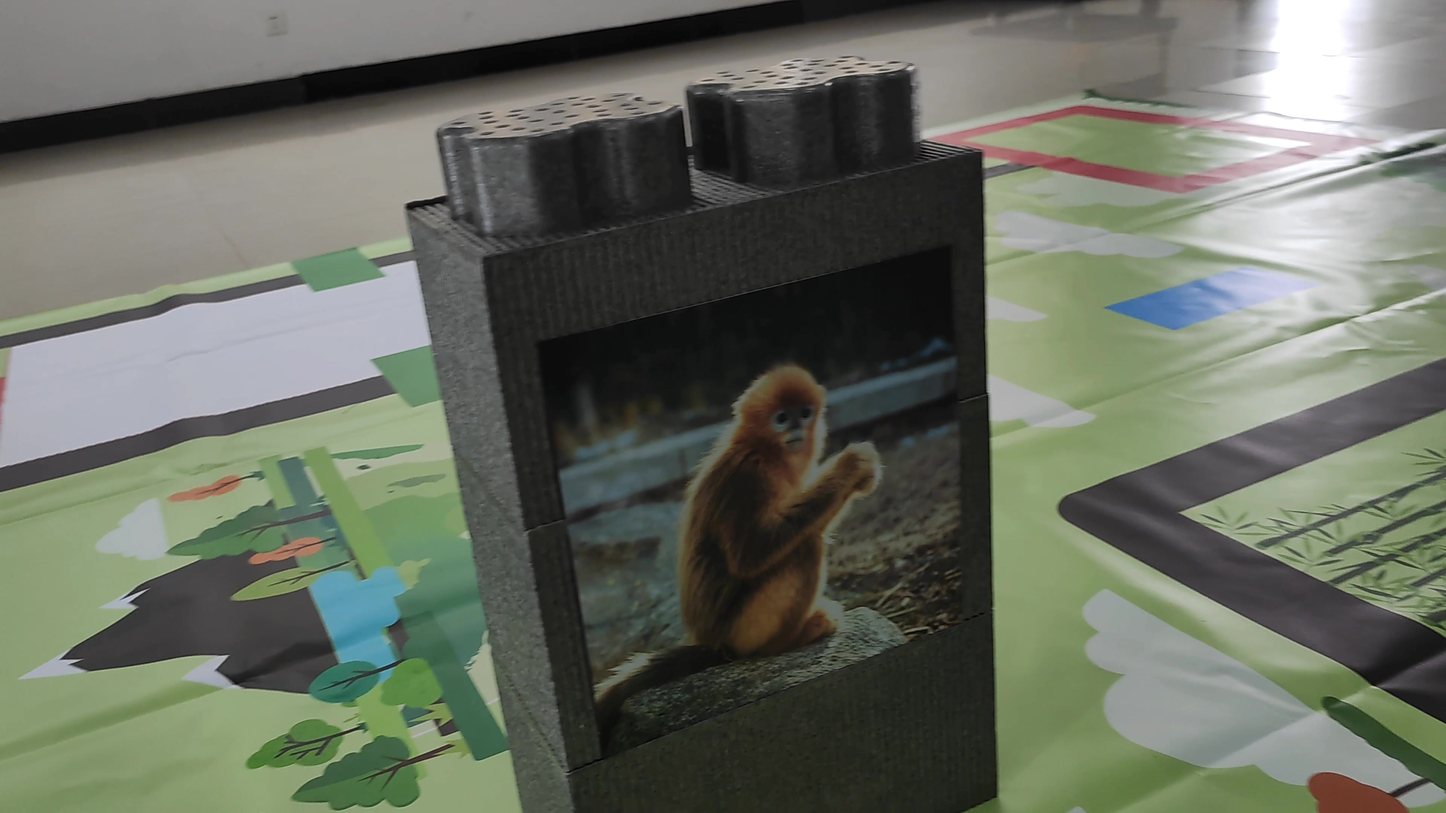monkey: (602, 320, 927, 671)
